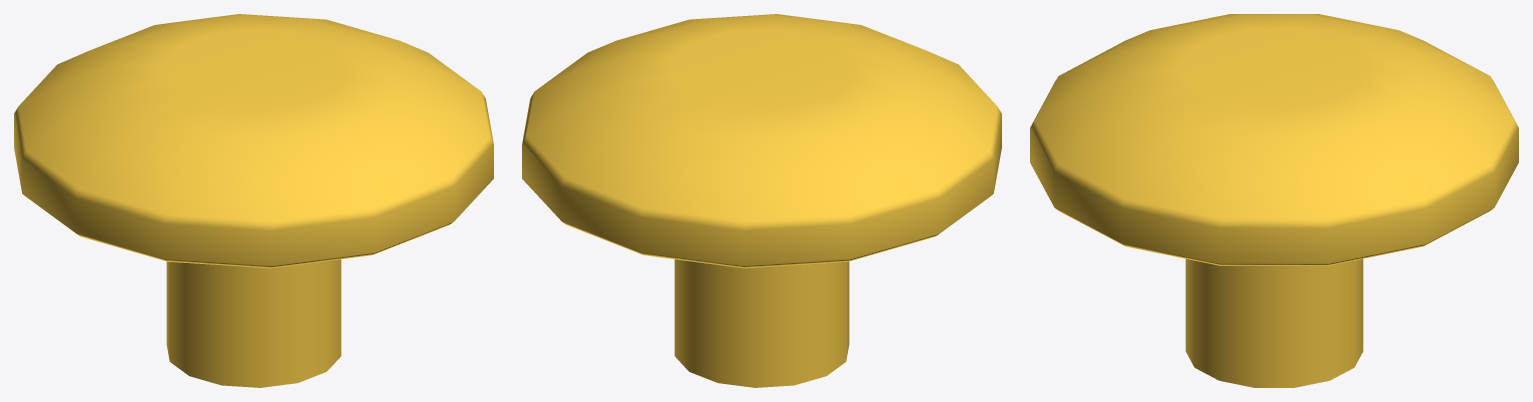
The model's file is Chess_Clock_Button_02.fbx.
3 views of the same model, side by side, from view 1: azimuth 30°, elevation 25°; view 2: azimuth 150°, elevation 25°; view 3: azimuth 270°, elevation 25° (orthographic).
Visible parts, largest first — view 1: Chess_Clock_Button_02; view 2: Chess_Clock_Button_02; view 3: Chess_Clock_Button_02.
Part boxes in pixels (x1,y1,x2,y2): Chess_Clock_Button_02: [14, 14, 493, 387]; Chess_Clock_Button_02: [522, 14, 1001, 387]; Chess_Clock_Button_02: [1030, 14, 1518, 387].
Bounding box in the file's own units: 1.31 × 0.8578 × 1.34.
